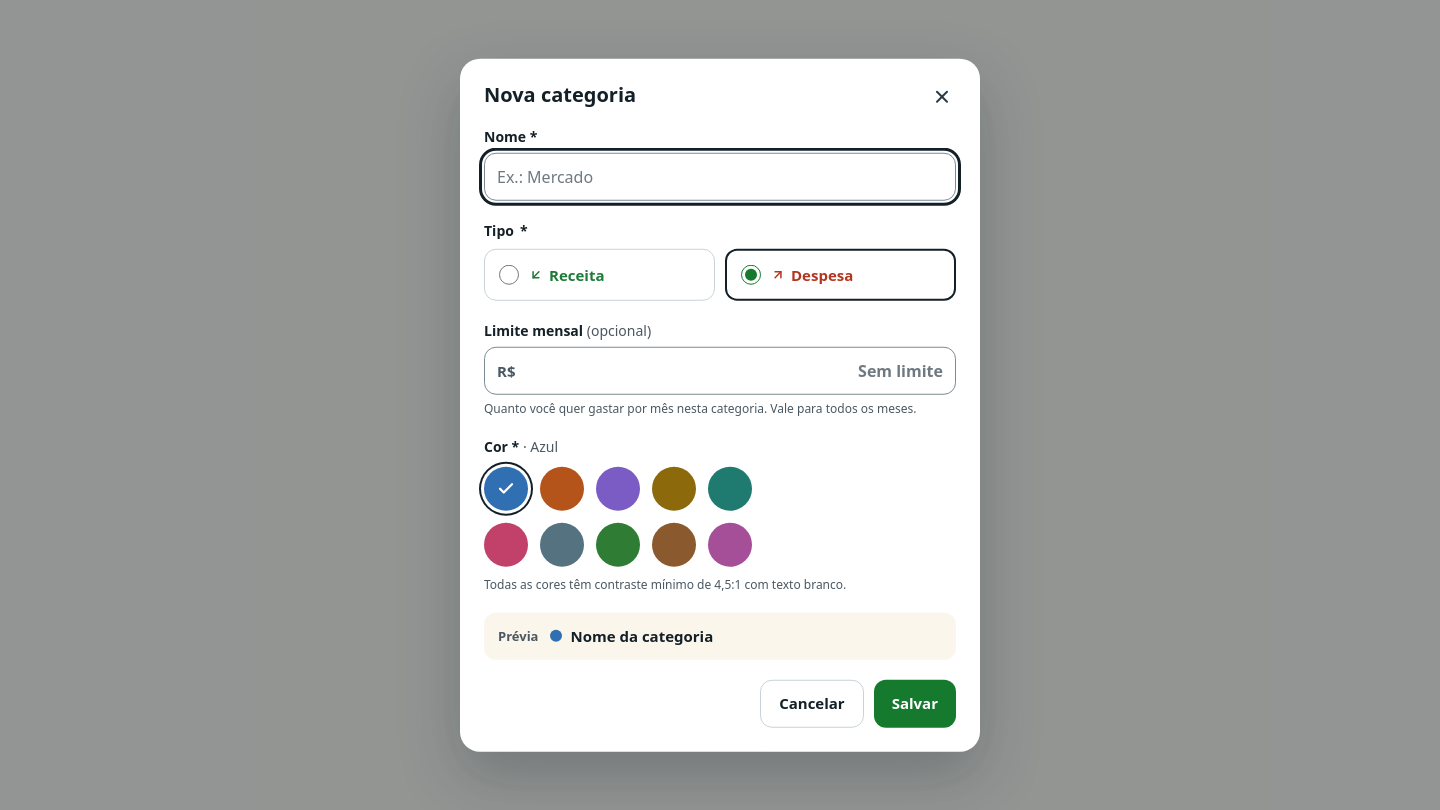
Scenario: CategoriaModal — limite mensal › mostra o erro da API no campo de limite
Type "Lazer" into the field labelled "Nome *" at x=720, y=177, box [497,154,943,200]
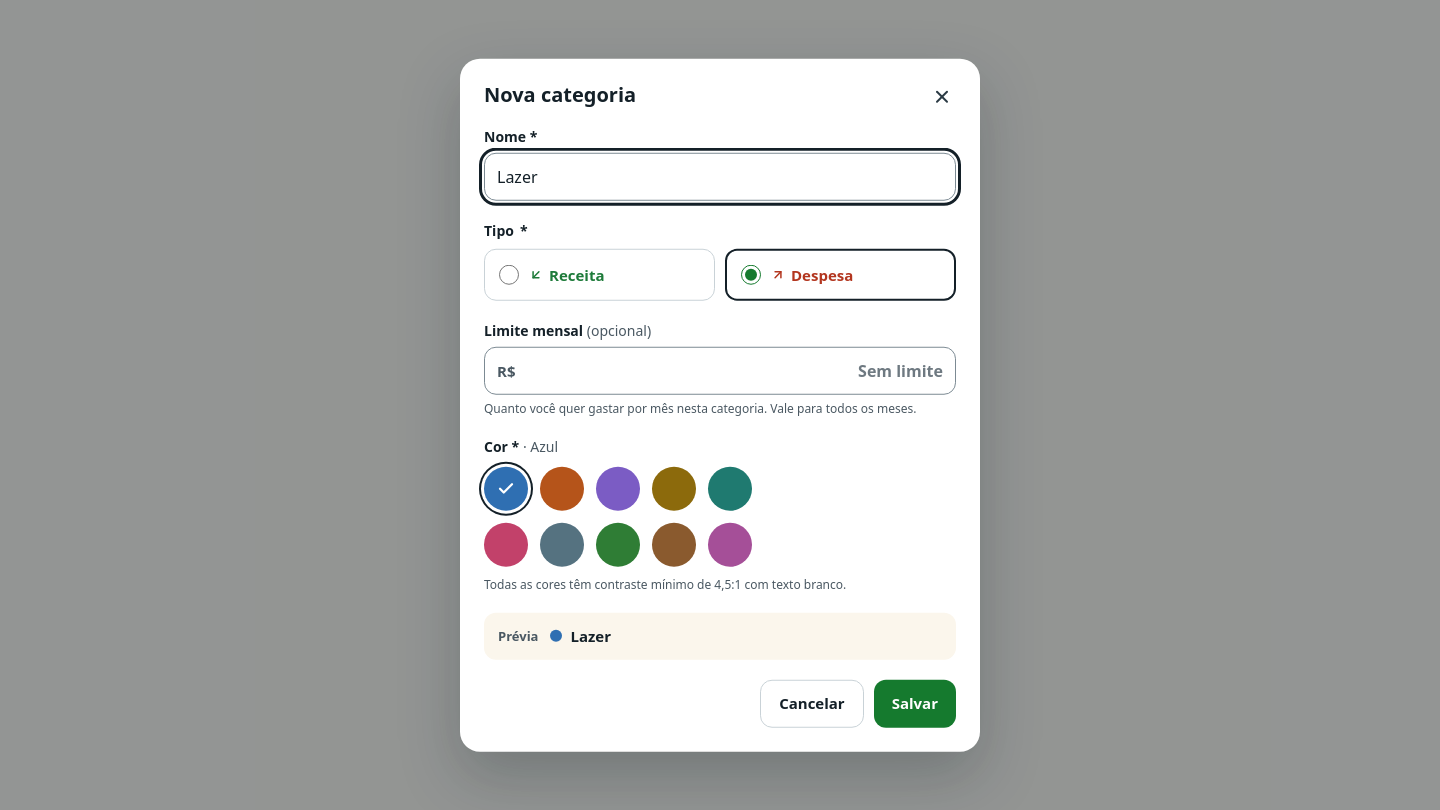
Type "1" into the field labelled "Limite mensal (opcional)" at x=733, y=371, box [524,348,943,394]
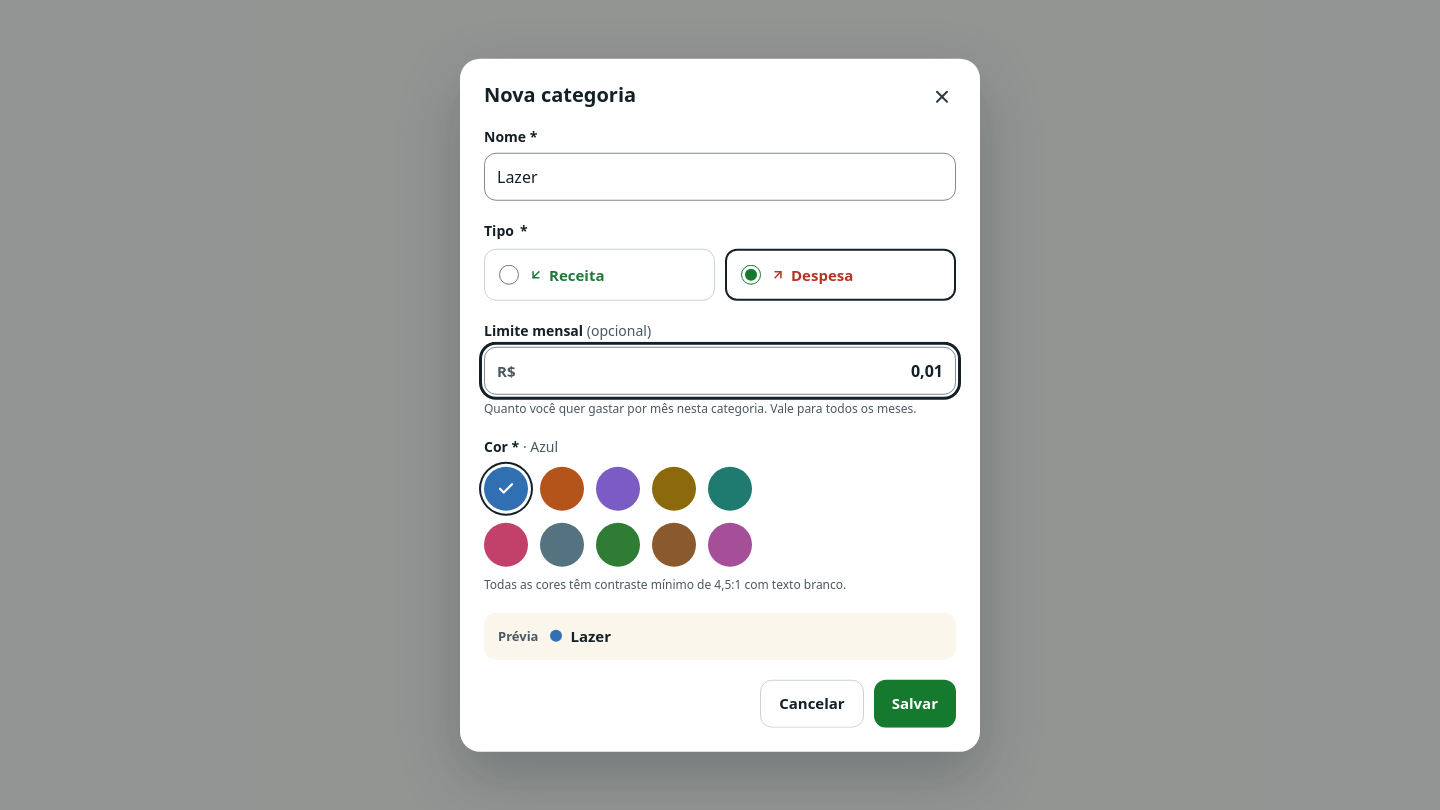
Click the button "Salvar" at x=915, y=703, box [874,679,956,727]
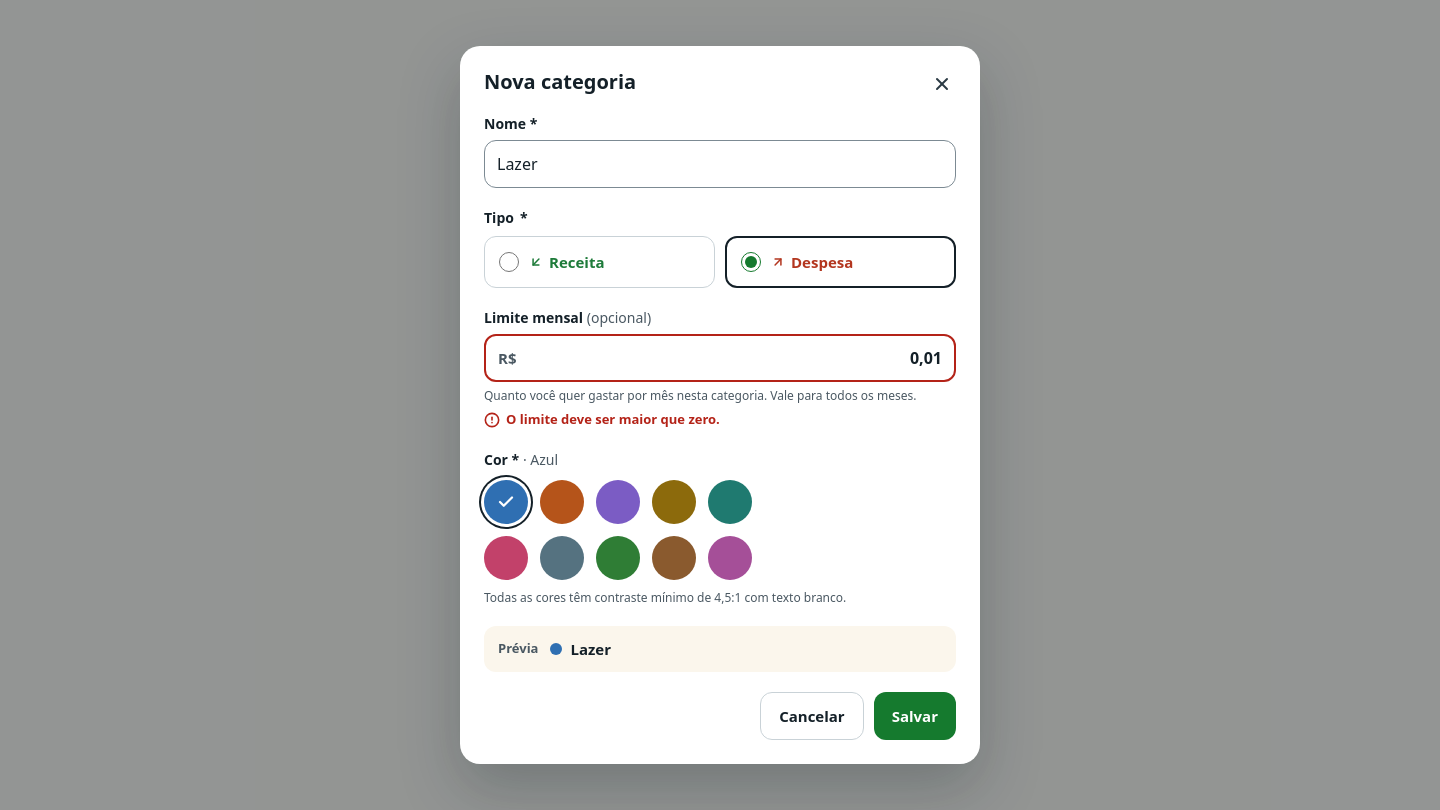
Expected: the text "O limite deve ser maior que zero." is shown, [506,410,720,430]
